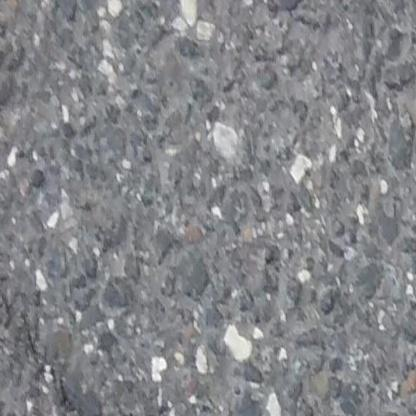Cracks: (0, 281, 93, 416)
